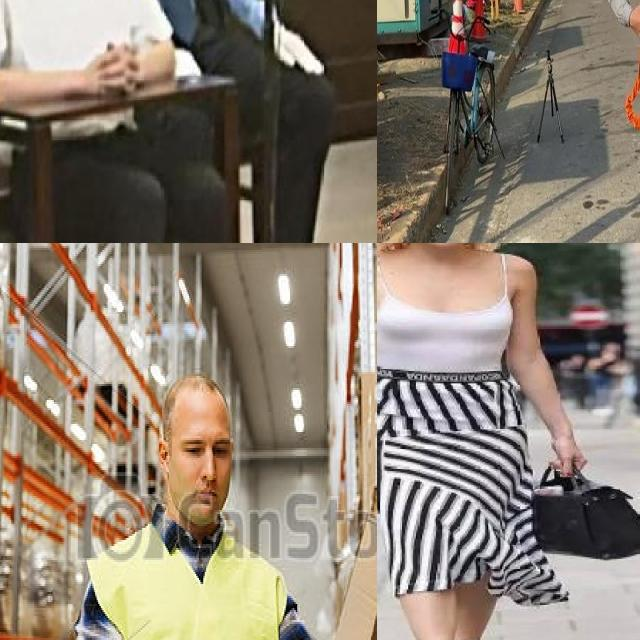Harness: (625, 59, 640, 130)
No_Ear-Protection: (158, 435, 169, 480)
No_Glasses: (159, 398, 232, 465)
face_nomask: (168, 461, 231, 525)
hand_glove: (269, 22, 325, 78)
hand_noglove: (92, 40, 138, 94), (547, 440, 588, 479)
head_nohelmet: (163, 378, 229, 441)
person: (377, 243, 640, 640), (84, 0, 377, 243), (0, 0, 226, 243)
